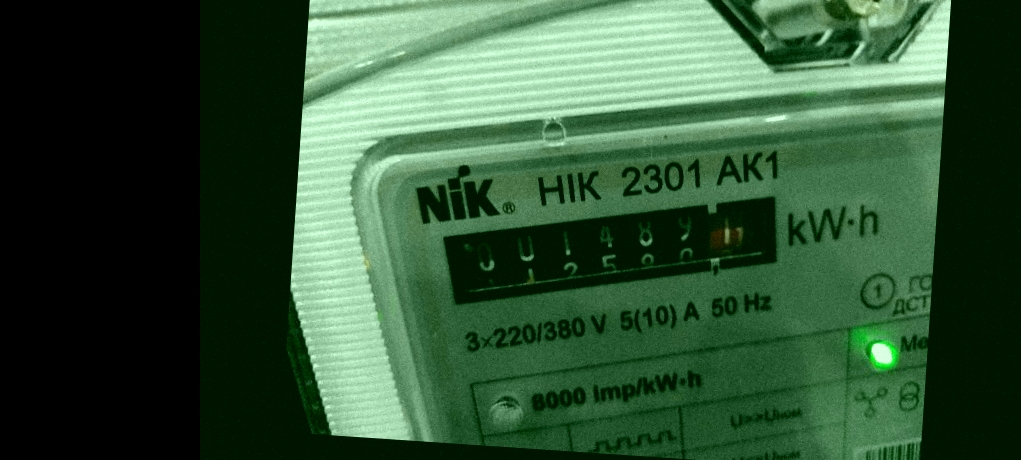0: (511, 226, 539, 263), (472, 237, 499, 274)
1: (716, 208, 737, 247), (556, 225, 578, 257)
4: (594, 217, 618, 250)
8: (634, 212, 658, 249)
9: (674, 209, 696, 242)
screen: (426, 162, 811, 338)
